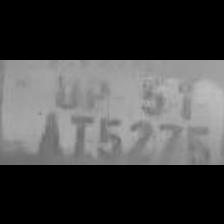1: (170, 68, 202, 116)
2: (124, 113, 153, 156)
5: (180, 118, 212, 162), (132, 72, 166, 112), (92, 111, 122, 156)
7: (154, 117, 180, 158)
A: (30, 106, 62, 156)
P: (80, 66, 112, 110)
T: (60, 110, 92, 156)
U: (47, 66, 81, 110)
